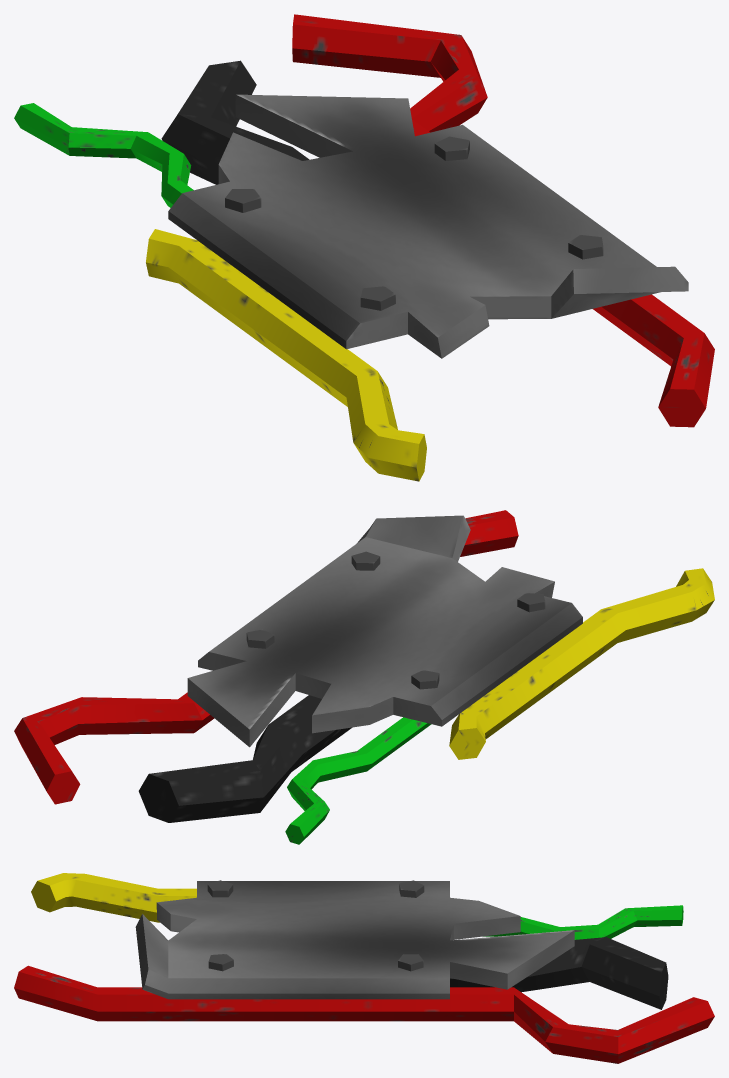
Rendered from exposed_wires.fbx.
The picture shows the model from 3 angles, top to bottom: view 1: azimuth 30°, elevation 25°; view 2: azimuth 150°, elevation 25°; view 3: azimuth 270°, elevation 25°; orthographic projection. The views are drawn at different scales.
Parts seen in each view (by area): view 1: Exposed_Wires; view 2: Exposed_Wires; view 3: Exposed_Wires.
Part boxes in pixels (x1,y1,x2,y2): Exposed_Wires: (14, 14, 714, 481); Exposed_Wires: (14, 510, 714, 844); Exposed_Wires: (14, 873, 714, 1063).
Bounding box in the file's own units: 770 × 178 × 1331.
